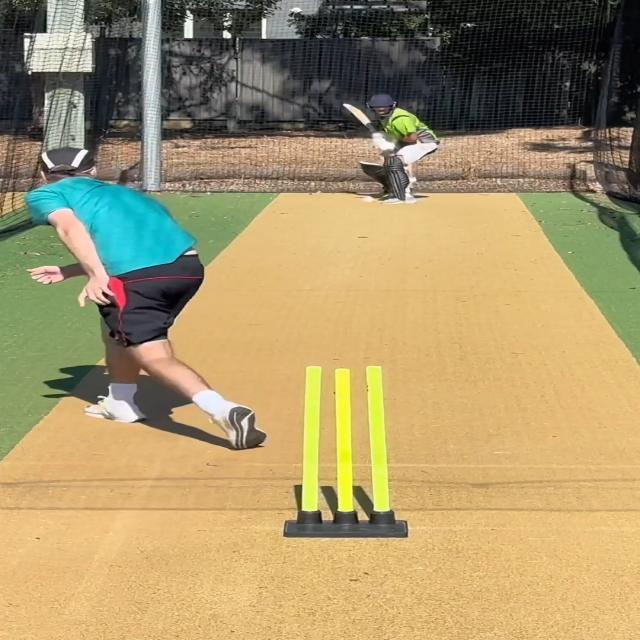ball: (360, 196, 377, 204)
stump: (281, 362, 411, 540)
